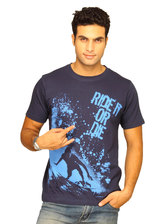clothoes: (23, 62, 148, 211)
